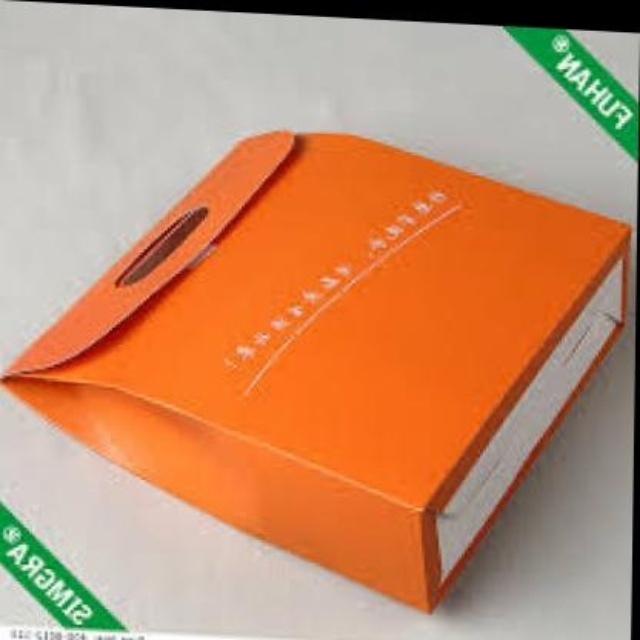trash: (5, 132, 629, 609)
